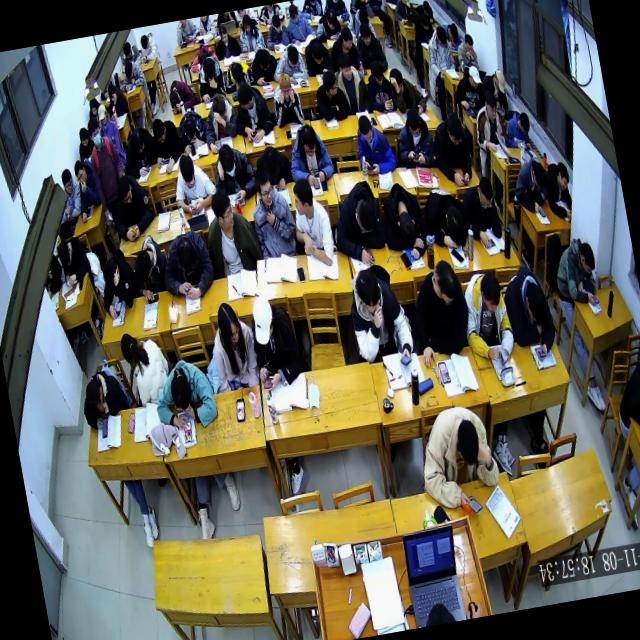bow: (497, 258, 560, 364), (147, 353, 220, 437), (324, 178, 388, 268), (155, 227, 218, 306), (375, 178, 428, 252), (418, 182, 472, 254), (76, 364, 132, 432), (125, 230, 172, 301), (210, 137, 258, 203), (508, 156, 553, 218), (144, 112, 186, 177), (117, 122, 160, 181), (386, 60, 428, 118), (540, 158, 576, 222), (252, 142, 295, 195), (266, 40, 308, 86), (173, 106, 209, 154), (246, 44, 280, 88), (300, 34, 334, 78), (219, 56, 253, 96), (166, 76, 199, 116), (312, 4, 342, 44), (186, 40, 220, 72), (344, 6, 374, 42), (116, 56, 146, 90), (117, 40, 143, 74), (441, 19, 463, 50)
down: (451, 416, 484, 469), (247, 294, 279, 348), (354, 264, 384, 318), (521, 278, 551, 326), (167, 369, 196, 416), (215, 300, 243, 348), (476, 270, 504, 316), (350, 195, 379, 238), (173, 234, 200, 277), (82, 376, 106, 420), (216, 141, 239, 182), (176, 152, 198, 190), (296, 120, 318, 158), (444, 110, 466, 148), (474, 174, 496, 212), (575, 240, 597, 278), (261, 144, 283, 180), (132, 248, 154, 284), (100, 254, 122, 290), (114, 171, 134, 206), (356, 112, 376, 146), (403, 106, 423, 140), (276, 70, 295, 104), (482, 89, 500, 122), (150, 116, 169, 146), (554, 159, 571, 192), (56, 238, 74, 269), (308, 36, 326, 66), (356, 20, 374, 50), (368, 58, 386, 88), (128, 126, 146, 156), (530, 160, 548, 190), (199, 54, 218, 82), (283, 41, 301, 70), (180, 114, 198, 142), (466, 64, 482, 92), (492, 67, 508, 95), (322, 6, 339, 32), (516, 110, 532, 137), (256, 46, 272, 72), (229, 58, 246, 82), (490, 138, 508, 160), (461, 32, 476, 58), (434, 23, 448, 48), (446, 21, 460, 44), (288, 1, 300, 25), (78, 126, 91, 148), (217, 22, 230, 44), (270, 12, 283, 34), (418, 10, 431, 32), (95, 104, 108, 125), (105, 81, 118, 102), (88, 95, 100, 116), (138, 31, 150, 52), (240, 13, 252, 34), (122, 60, 134, 80), (120, 39, 132, 59), (420, 0, 432, 18), (399, 0, 411, 6)
lookup: (252, 166, 276, 208), (85, 116, 103, 150), (336, 51, 354, 85), (71, 157, 88, 187)
sit: (410, 398, 506, 522), (341, 255, 418, 372), (402, 255, 478, 368), (199, 183, 265, 281), (456, 267, 518, 370), (243, 288, 304, 392), (204, 296, 262, 394), (244, 161, 300, 261), (82, 112, 132, 224), (285, 172, 339, 270), (116, 322, 174, 412), (548, 232, 603, 308), (426, 109, 476, 190), (106, 170, 160, 243), (282, 120, 337, 190), (458, 174, 506, 253), (168, 148, 220, 218), (93, 245, 141, 319), (351, 108, 398, 180), (390, 104, 438, 172), (227, 78, 275, 144), (197, 88, 242, 156), (331, 48, 371, 118), (468, 88, 509, 155), (609, 359, 640, 437), (266, 70, 306, 130), (310, 64, 349, 125), (71, 155, 104, 224), (351, 18, 390, 76), (361, 56, 396, 116), (54, 233, 91, 289), (192, 51, 229, 106), (422, 22, 457, 80), (448, 62, 486, 111), (326, 22, 360, 72), (280, 0, 316, 46), (56, 166, 85, 220), (502, 106, 534, 154), (95, 101, 122, 155), (480, 66, 510, 113), (233, 10, 264, 52), (212, 20, 242, 60), (261, 11, 291, 51), (103, 79, 130, 121), (454, 32, 481, 74), (410, 10, 436, 47), (74, 125, 98, 162), (136, 28, 160, 63), (391, 0, 417, 27), (415, 0, 435, 25)
